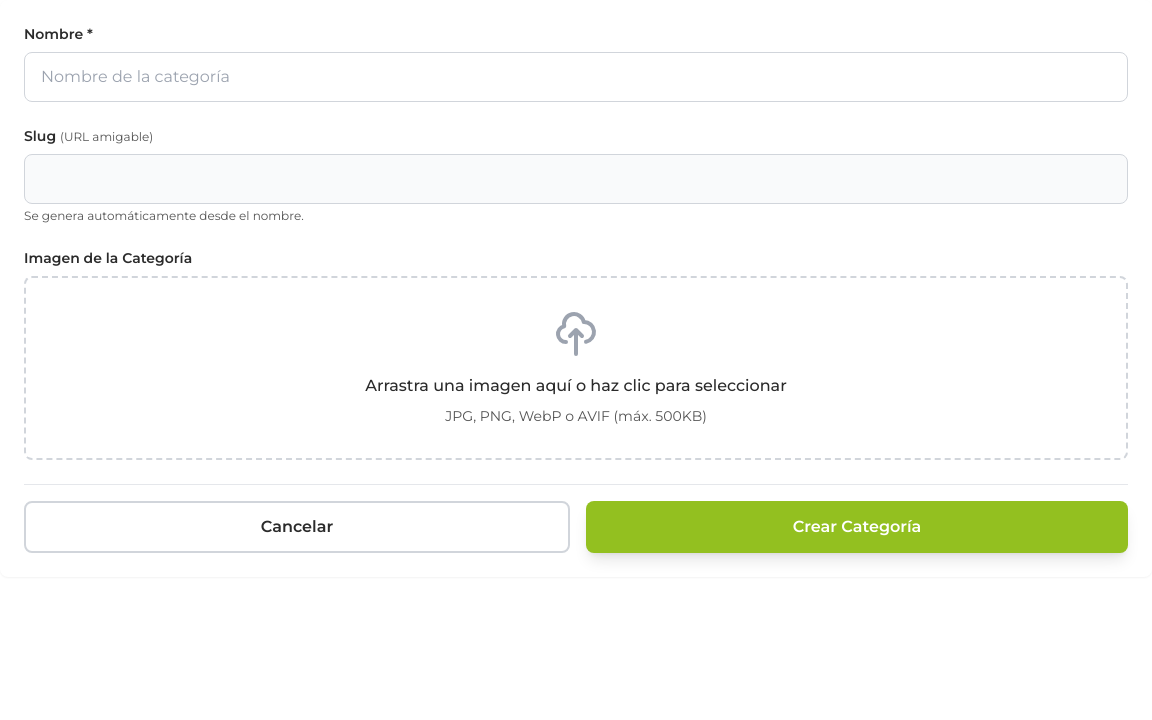
CategoryForm › Form Fields › should auto-generate slug from name
This screenshot has width=1152, height=720.
In the field labelled "Nombre *": [576, 77] box [24,52,1128,102], type "My Category"
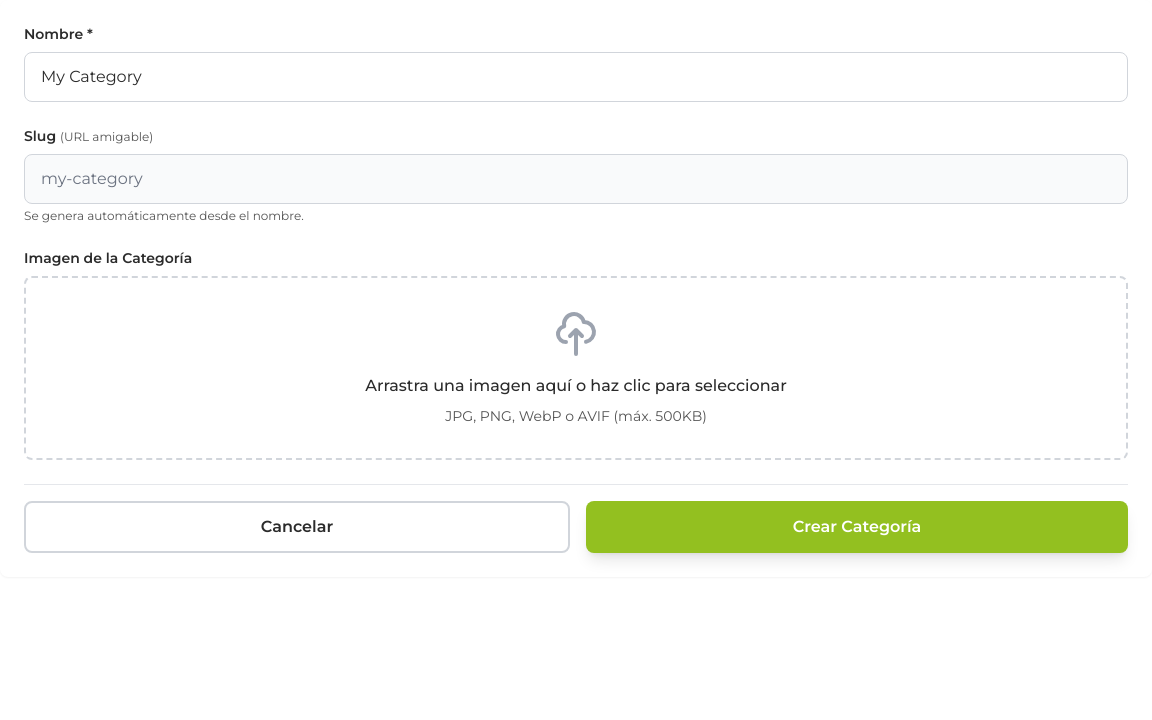
Result: the field labelled "Slug (URL amigable)" holds "my-category" at [24,154,1128,204]
